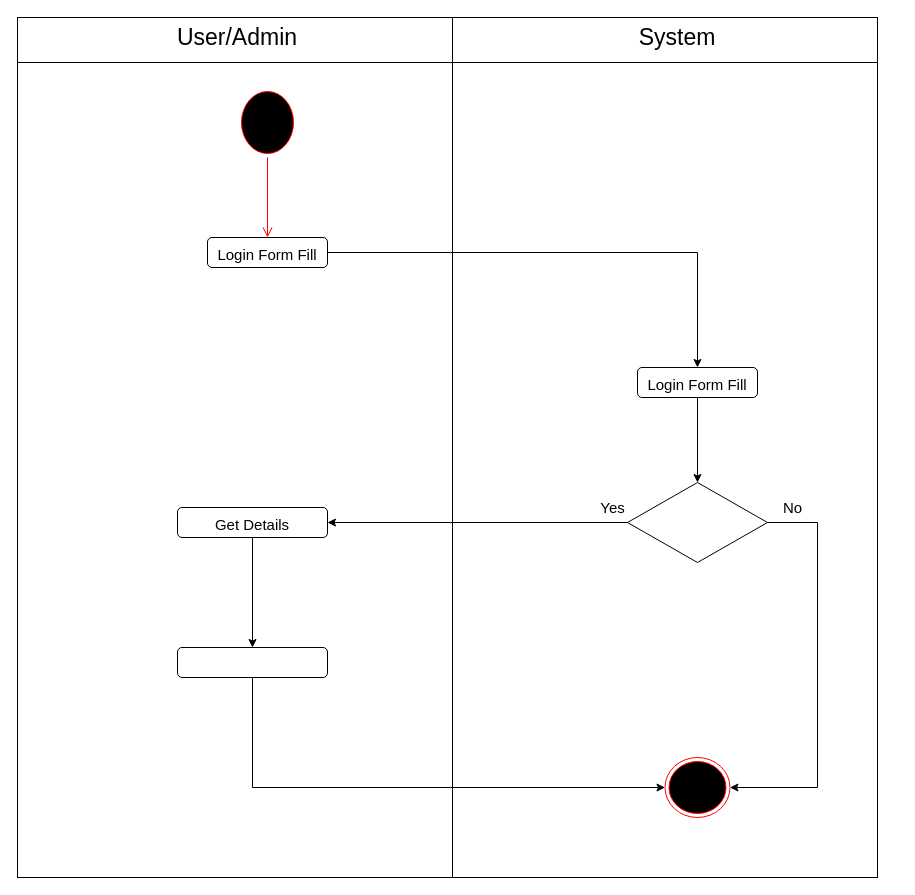
Some shapes in this 915 by 895 pixel diagram are drawn without their labels. Each missing label, with the centre of its shape:
"Login Successfully" belongs at [252,662].
"Verify Details" belongs at [697,522].
